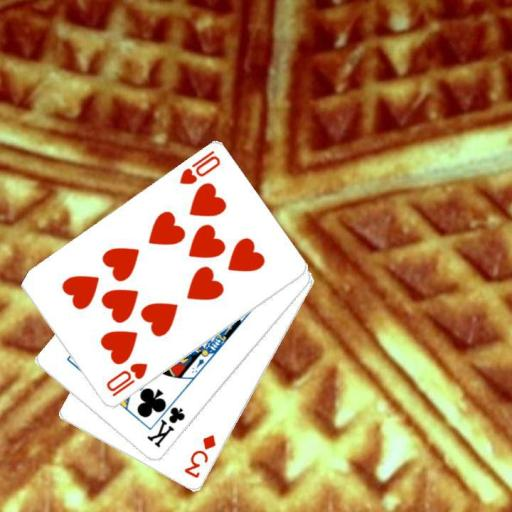10H: (176, 148, 223, 187), (103, 360, 149, 399)
3D: (181, 431, 218, 480)
KC: (144, 395, 187, 450)
